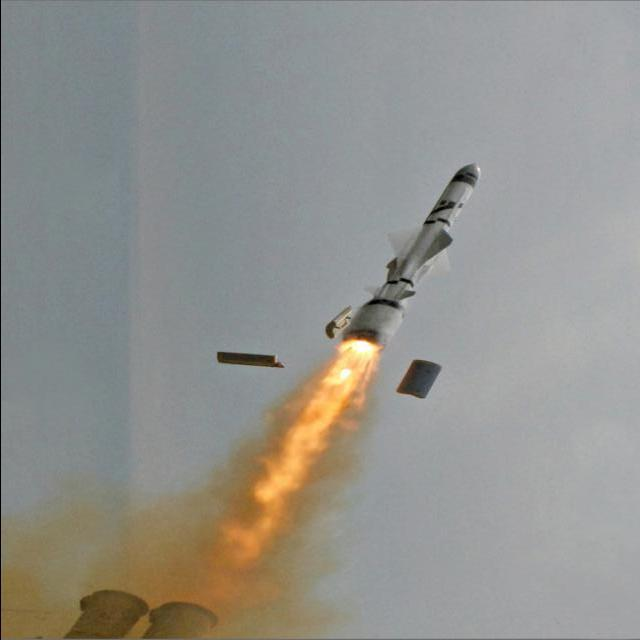missile: (322, 159, 497, 368)
